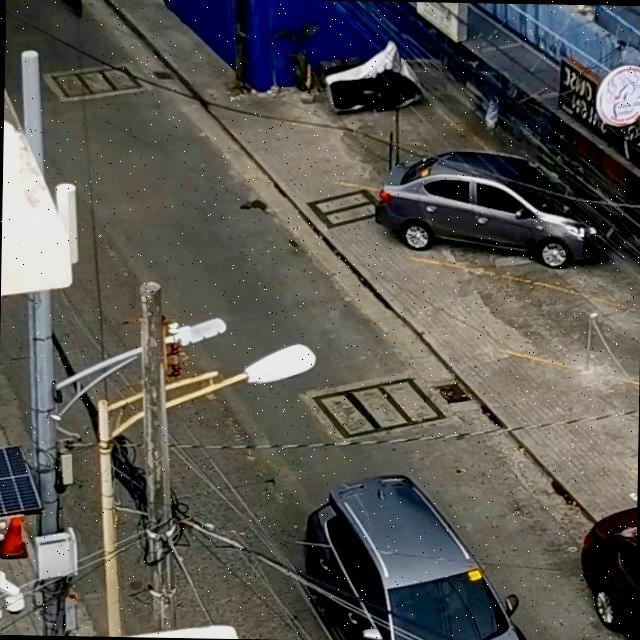Bike: (60, 0, 84, 15)
